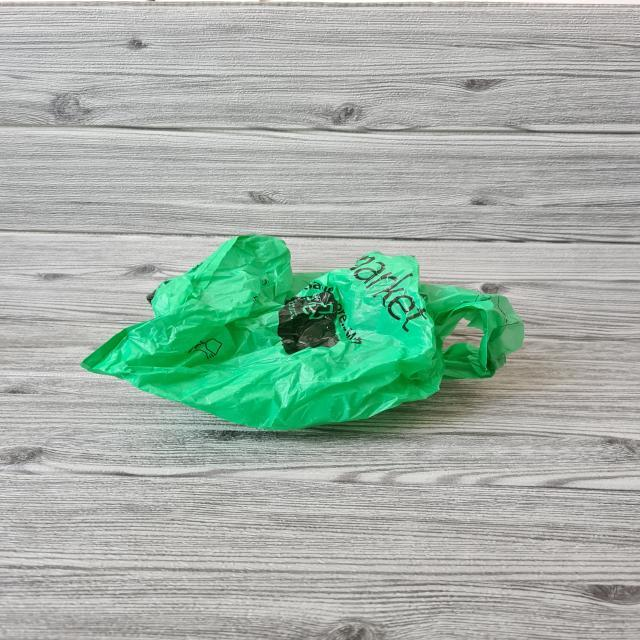plastic: (78, 237, 527, 429)
